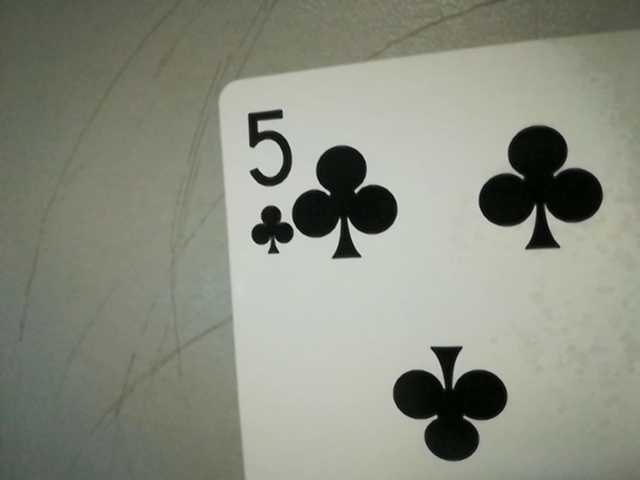mh 5: (233, 93, 299, 263)
